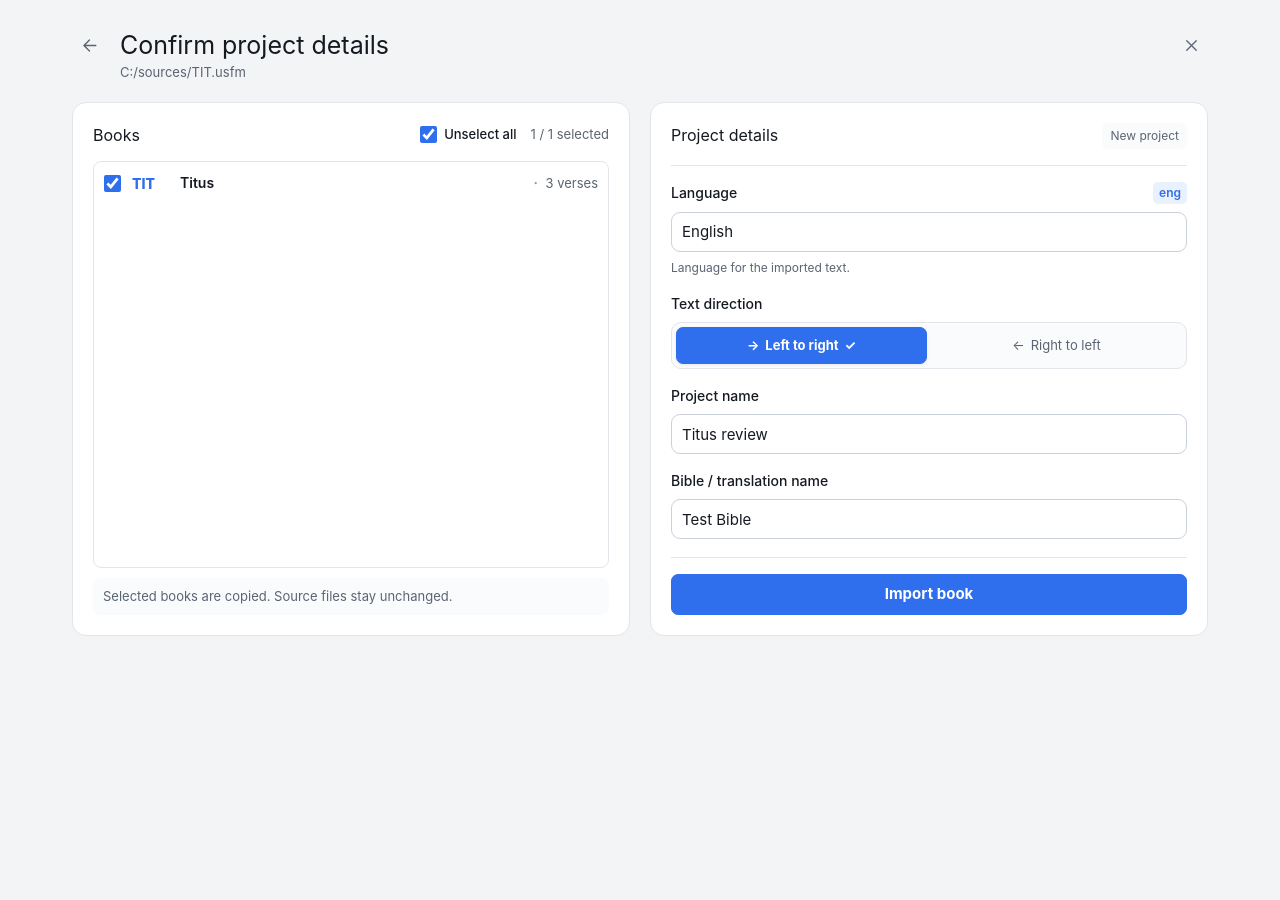
Scenario: ImportScreen background import (#231) › reports a failed job as an error and leaves the form usable
The image size is (1280, 900).
Check: the heading "Confirm project details" is shown, box [120,30,389,60]
Step 1. Click the button "Import book" → {"x": 929, "y": 594}, box [671,574,1187,614]
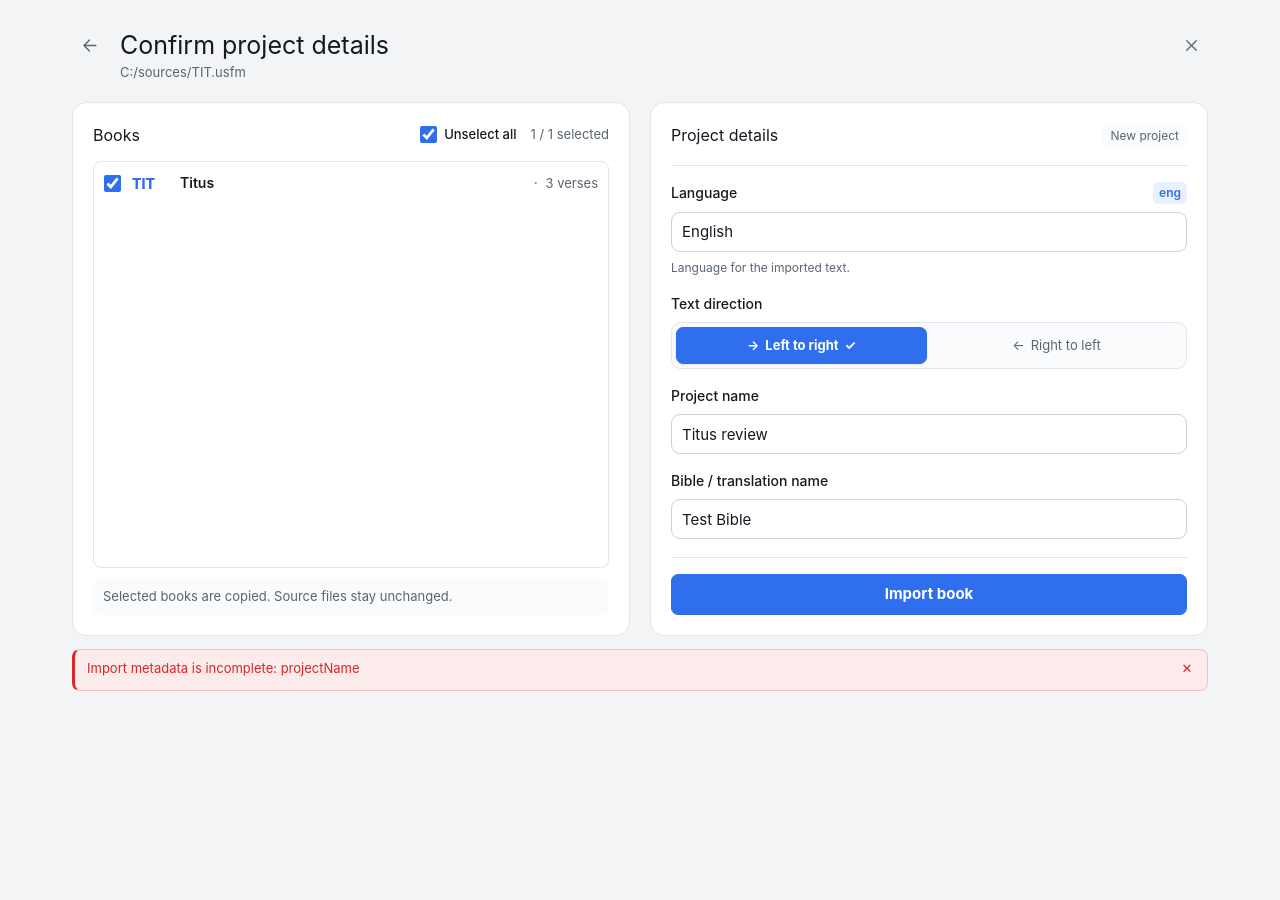
Check: the text "Import metadata is incomplete: projectName" is shown, box [87,660,360,676]
